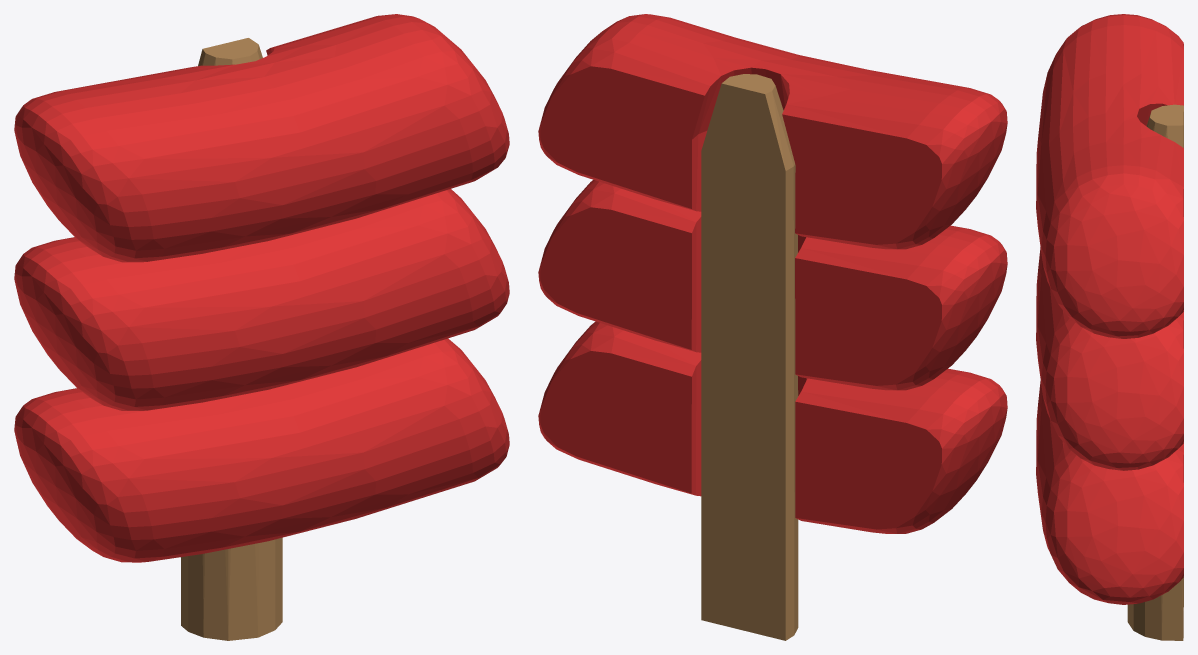
The model's file is stick_dduck.glb.
3 renders of one model, left to right at view 1: azimuth 30°, elevation 25°; view 2: azimuth 150°, elevation 25°; view 3: azimuth 270°, elevation 25°, orthographic. The views are drawn at different scales.
Visible parts, largest first — view 1: Circle.084; view 2: Circle.084; view 3: Circle.084.
Part boxes in pixels (left/top/right/bottom): Circle.084: left=14, top=14, right=509, bottom=640; Circle.084: left=538, top=14, right=1007, bottom=640; Circle.084: left=1036, top=14, right=1183, bottom=640.
Bounding box in the file's own units: 12.72 × 15.37 × 3.98.
